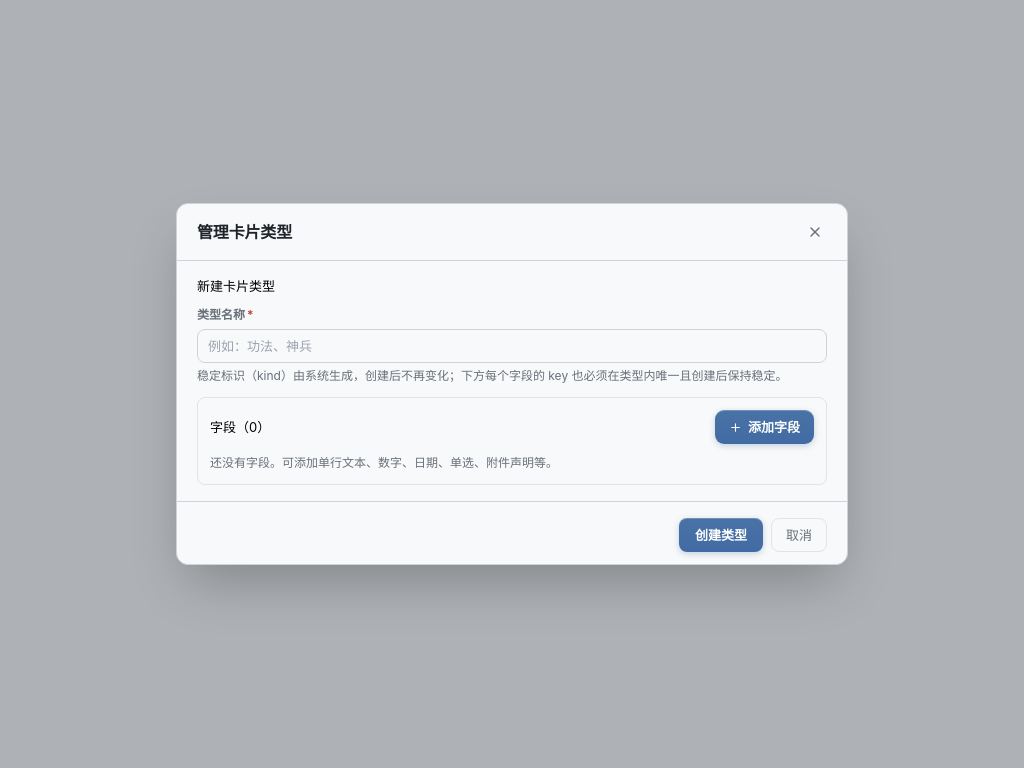
it: CardTypeEditor 自定义卡片类型 › 空名称或空 key 不提交
Click the button "添加字段".
click(764, 427)  # box [715,410,814,444]
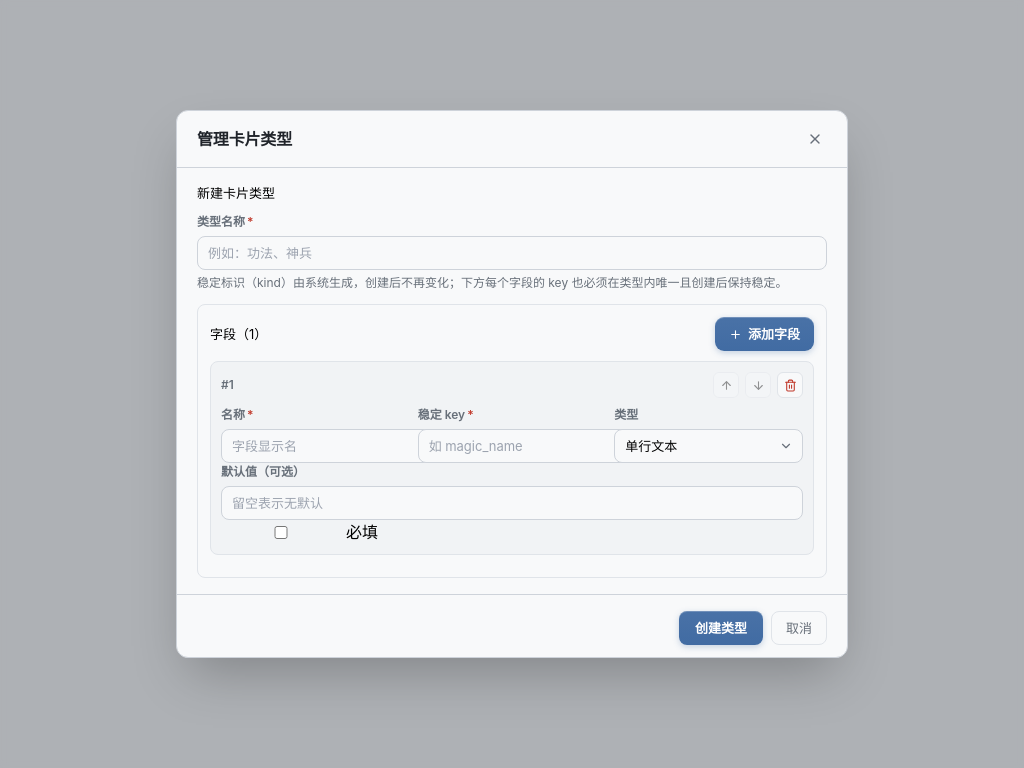
Type "字段甲" into the field with placeholder "字段显示名".
click(333, 446); type("字段甲")  # box [221,429,445,463]
Type "k1" into the field with placeholder "如 magic_name".
click(530, 446); type("k1")  # box [418,429,642,463]
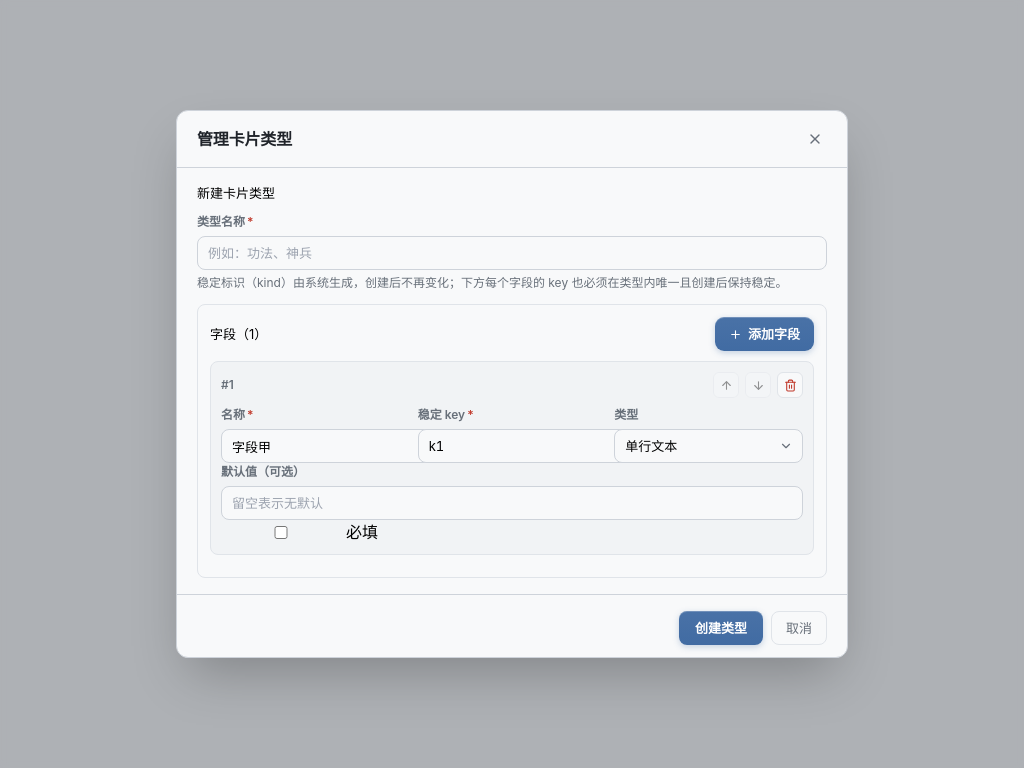
Select "单行文本" in the dropdown at {"x": 709, "y": 446}, box [614,429,803,463]
Click the button "创建类型".
click(721, 628)  # box [679,611,763,645]
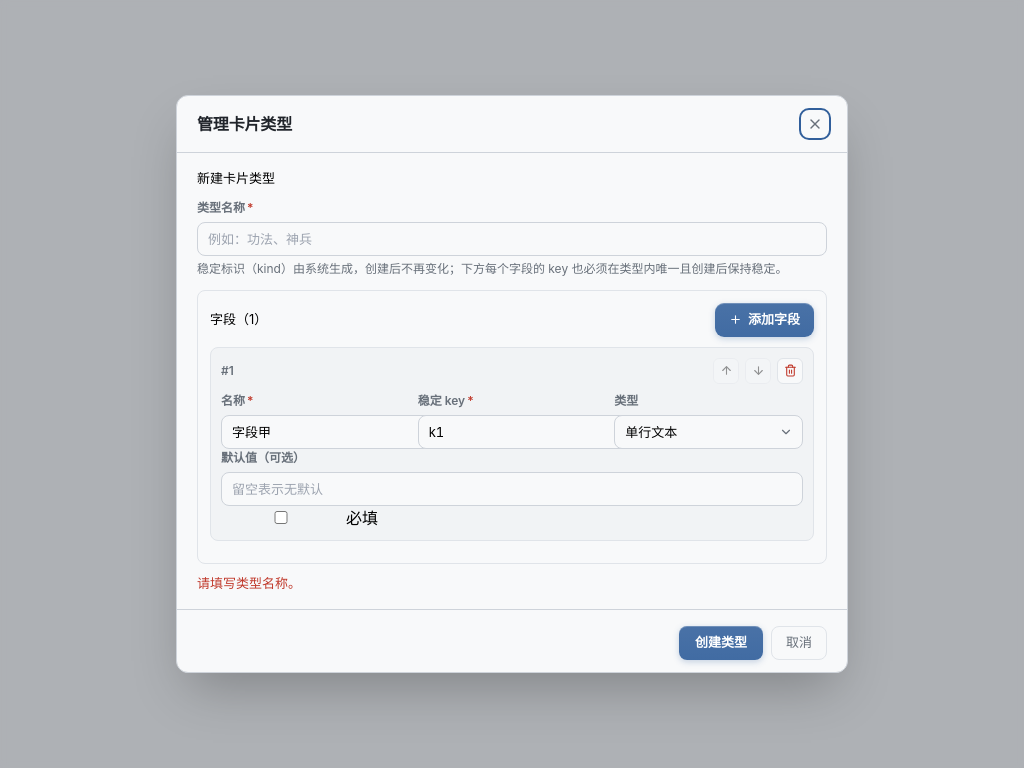
Expected: the text "请填写类型名称。" is shown, [197,574,301,590]
Type "有名称" into the field with placeholder "例如：功法、神兵".
click(512, 238); type("有名称")  # box [197,222,827,256]
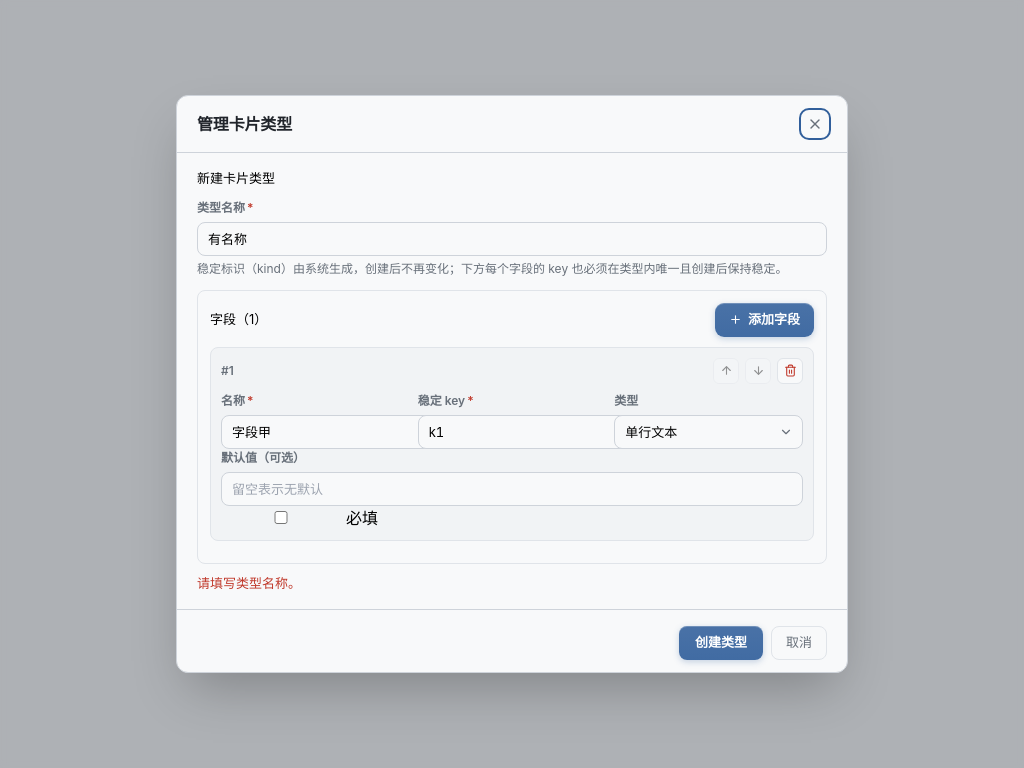
Clear the field below "稳定 key" at {"x": 530, "y": 432}, box [418,414,642,448]
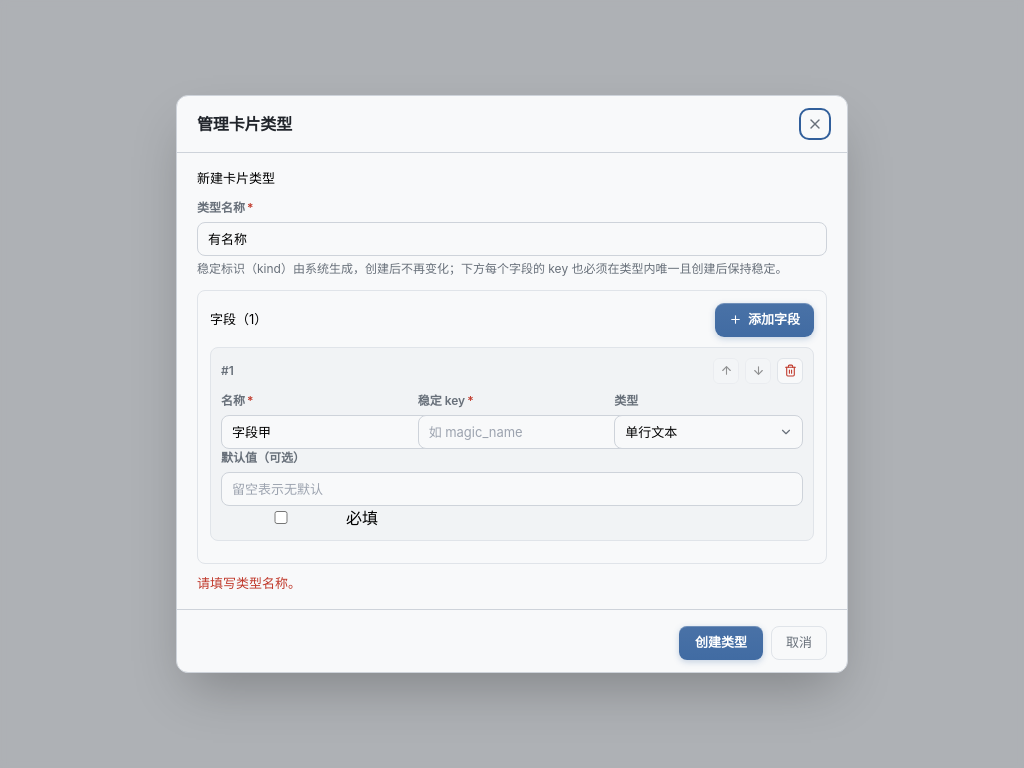
Click the button "创建类型".
click(721, 643)  # box [679,626,763,660]
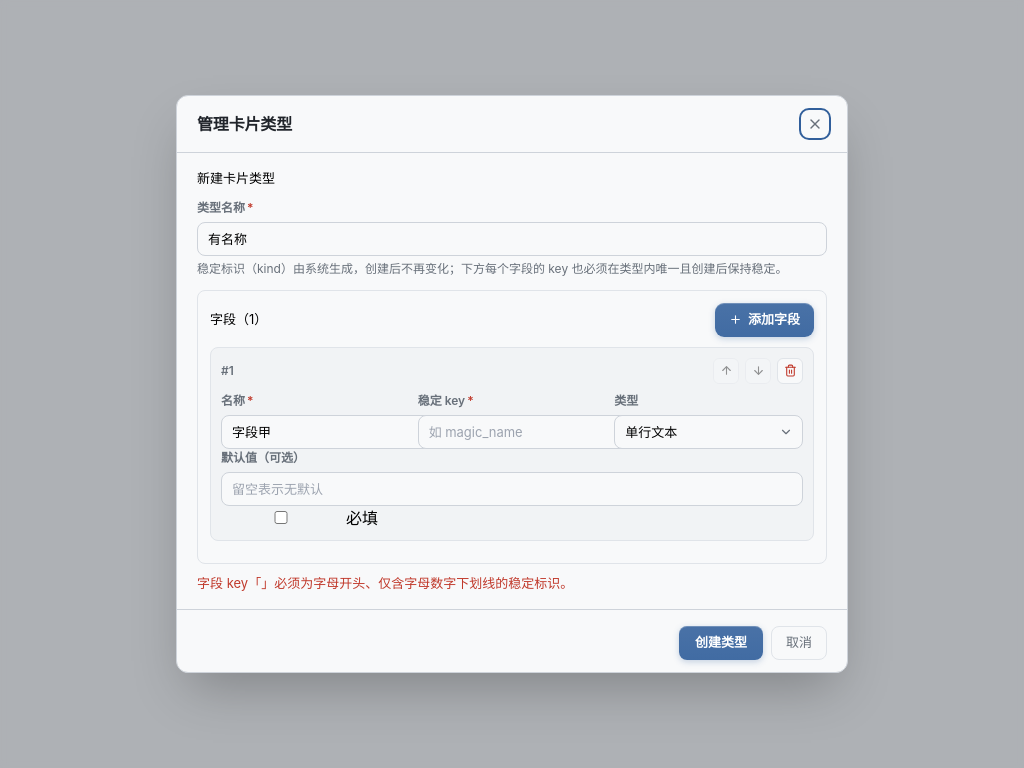
Expected: the text "字段 key「」必须为字母开头、仅含字母数字下划线的稳定标识。" is shown, [197,574,573,590]
